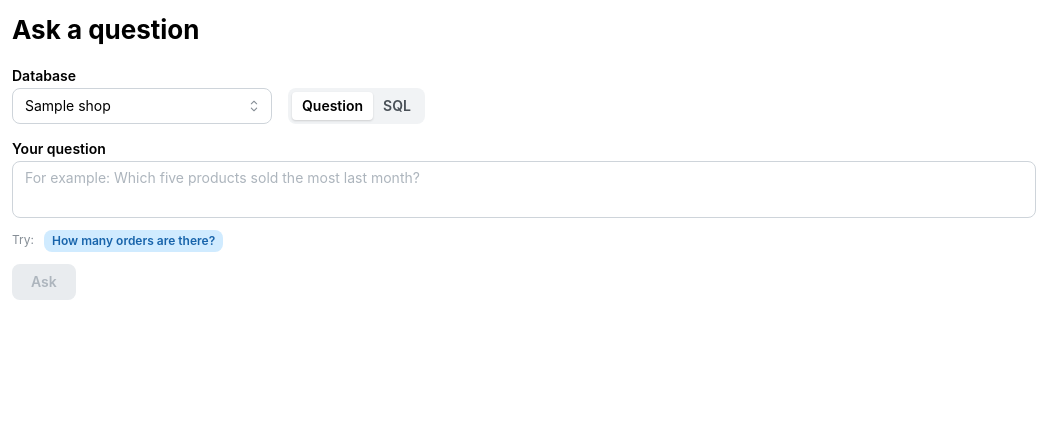
AskPage › explains a question the allowed tables cannot answer
This screenshot has width=1048, height=439.
Type "How many orders per region?" into the text box labelled "Your question" at (524, 189), box [12,161,1036,218]
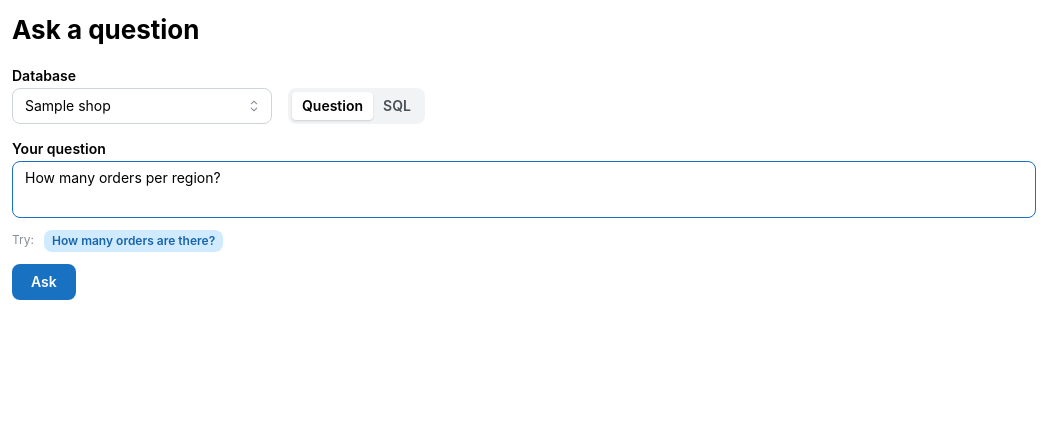
Click the button "Ask" at (44, 282), box [12,264,76,300]
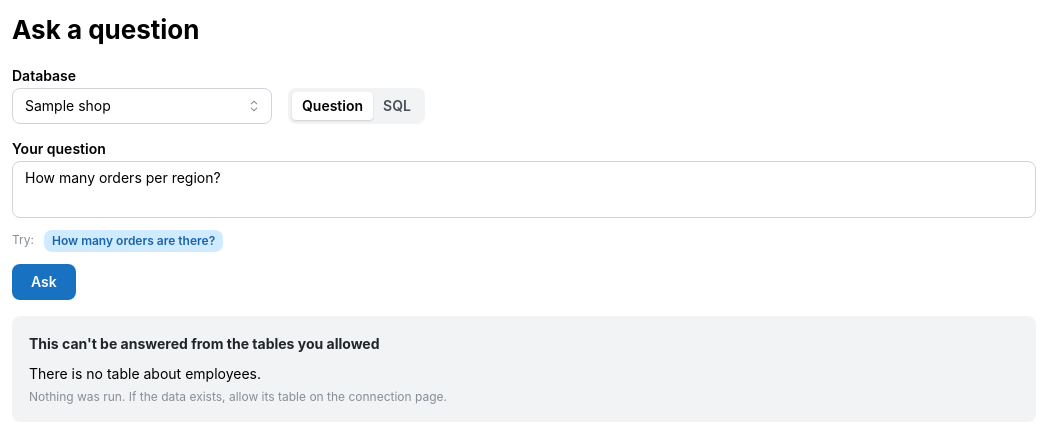
Expected: the text "There is no table about employees." is shown, [29,365,261,382]
